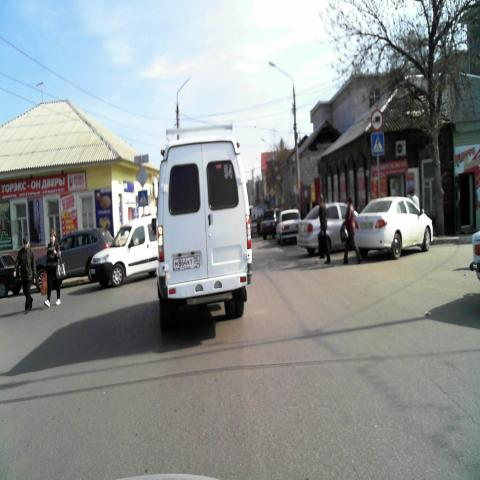3_4_1: (372, 108, 384, 130)
